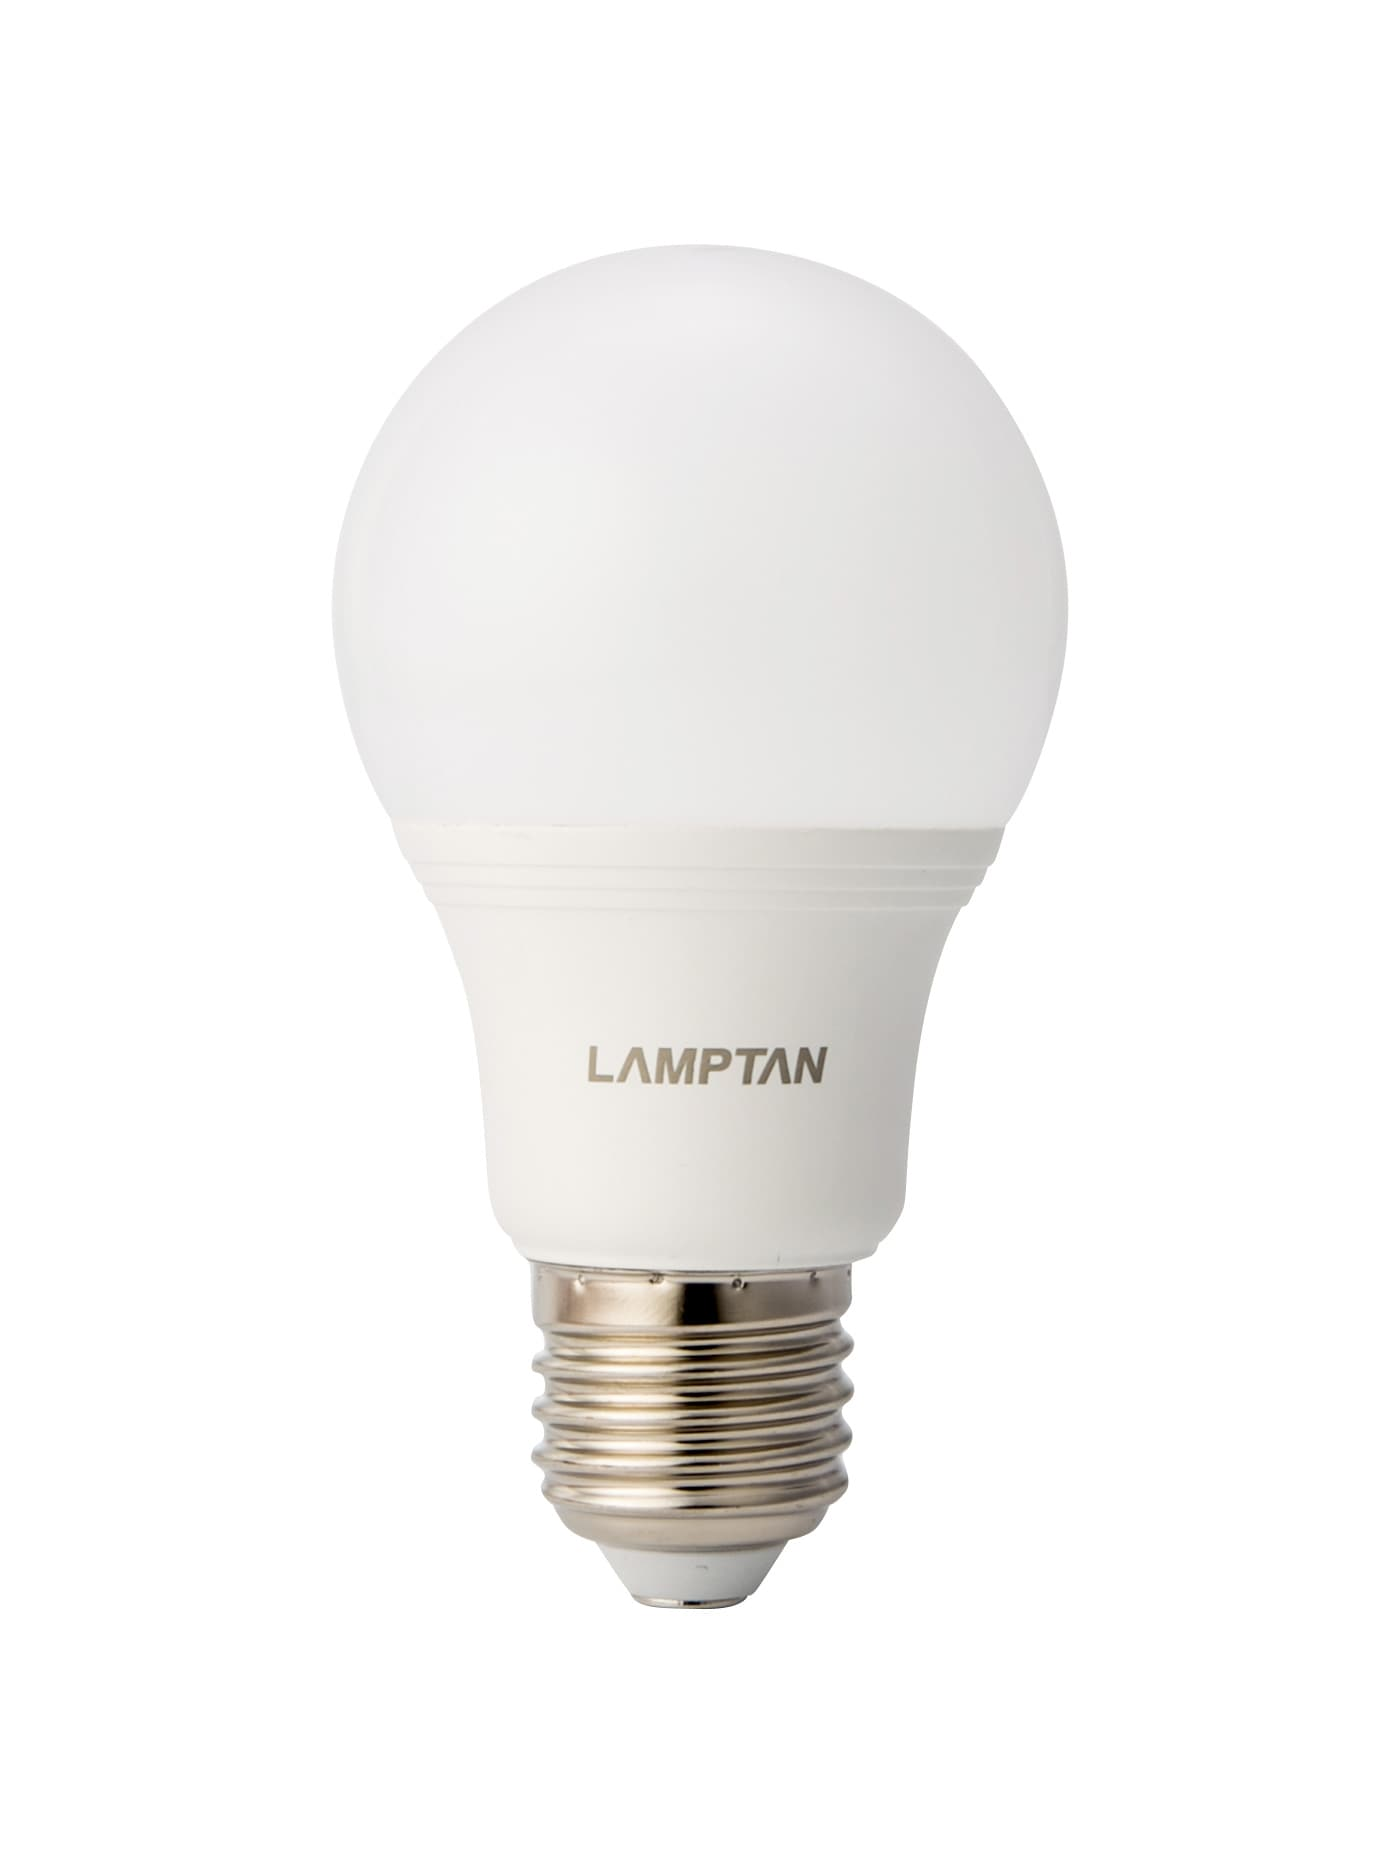Light_bulb: (312, 222, 1100, 1685)
